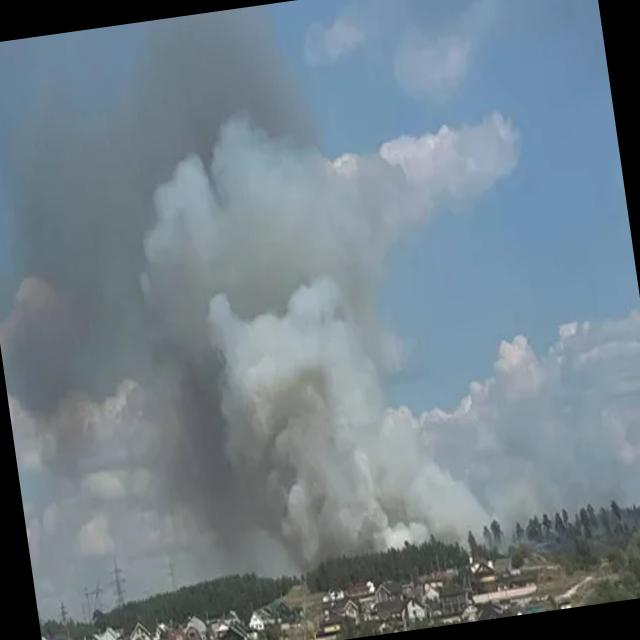Smoke: (110, 68, 494, 581)
